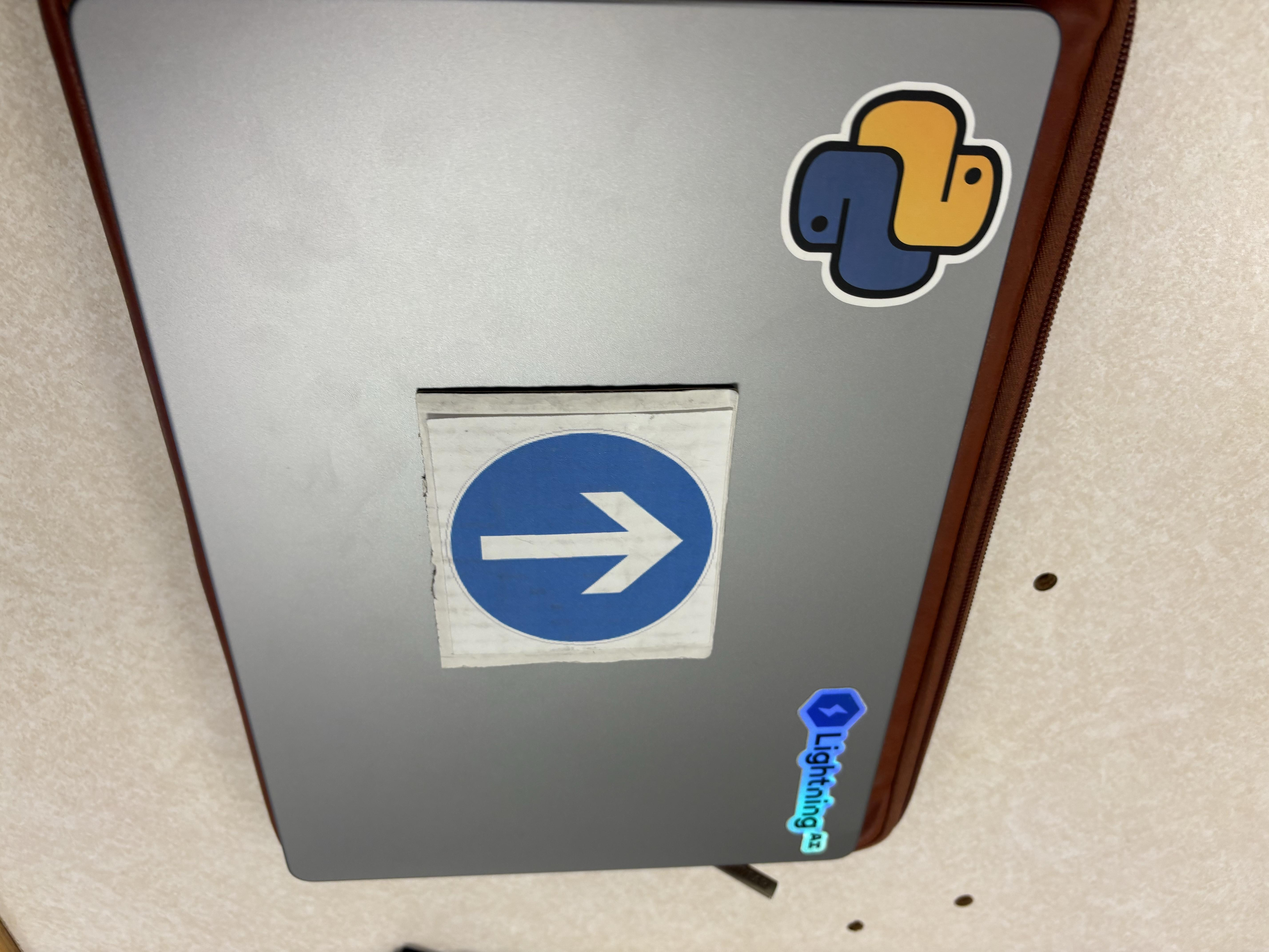Proceed Right: (413, 389, 723, 656)
